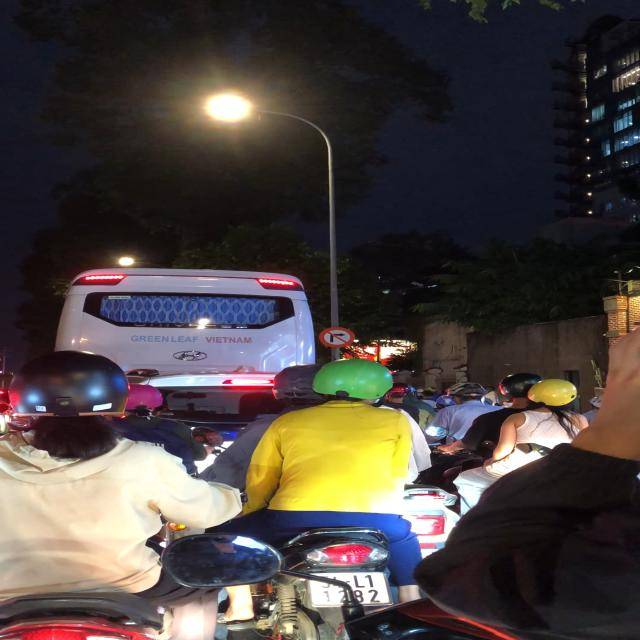Bien bao cam re phai: (317, 326, 361, 350)
